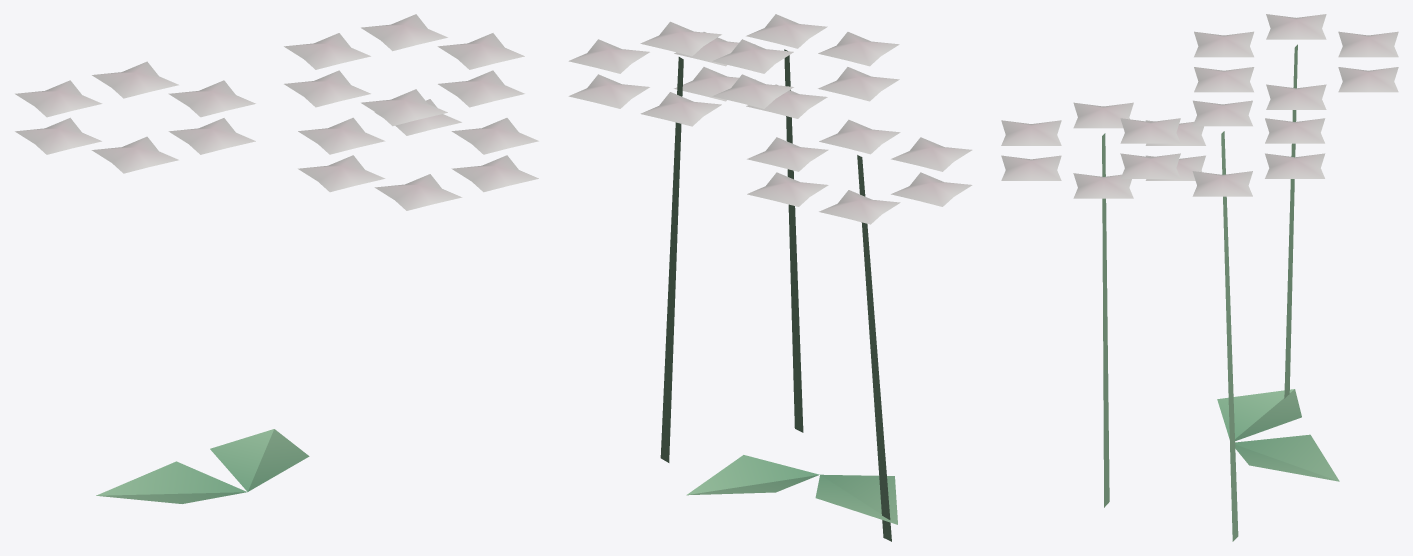
Rendered from maidens_lace.glb.
3 renders of one model, left to right at view 1: azimuth 30°, elevation 25°; view 2: azimuth 150°, elevation 25°; view 3: azimuth 270°, elevation 25°, orthographic. The views are drawn at different scales.
Parts seen in each view (by area): view 1: near, far; view 2: near, far; view 3: near, far.
Part boxes in pixels (bbox=[...]): near: bbox=[15, 14, 538, 491]; far: bbox=[96, 461, 247, 503]; near: bbox=[568, 14, 972, 541]; far: bbox=[815, 474, 897, 524]; near: bbox=[1001, 14, 1398, 541]; far: bbox=[1217, 389, 1301, 441].
Bounding box in the file's own units: 0.4001 × 0.3727 × 0.3339.
